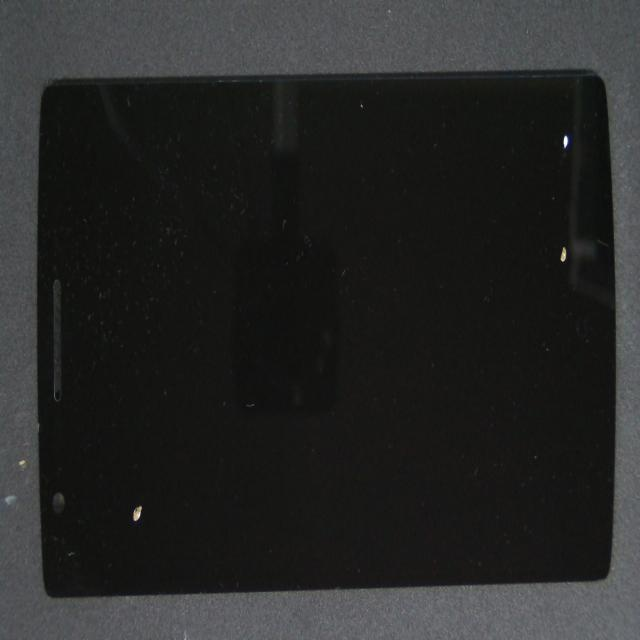stain: (292, 115, 640, 352), (75, 231, 194, 640), (294, 47, 640, 182)
